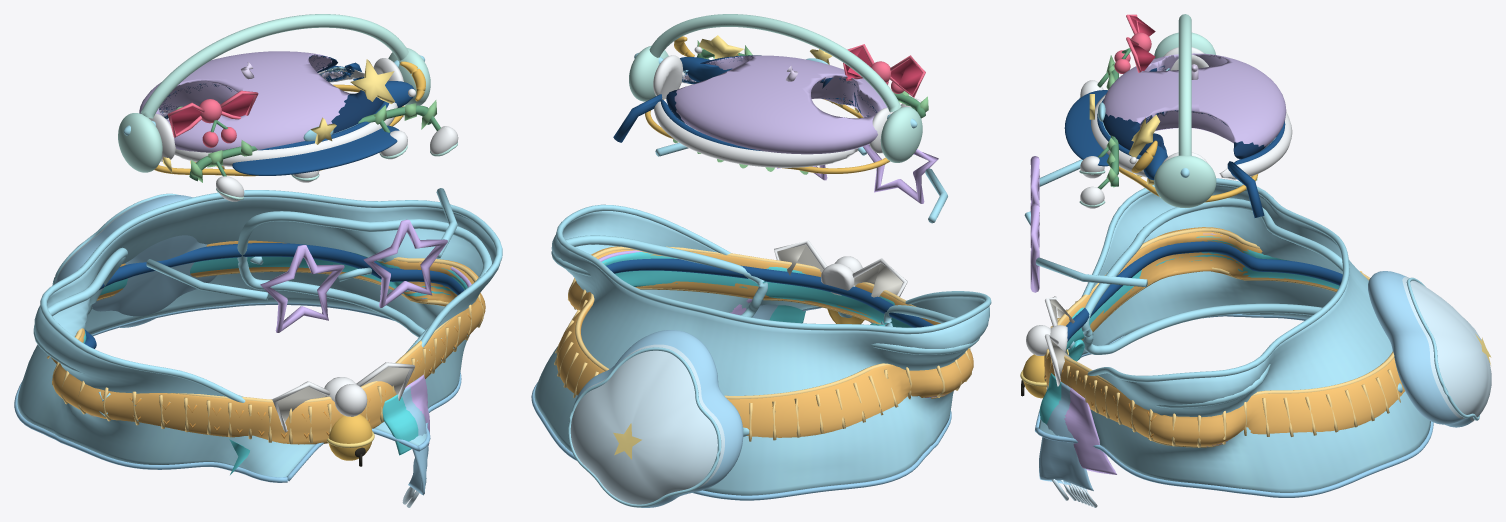
Rendered from nava-wardrobe-accessories-C5J--fAD.glb.
3 views of the same model, side by side, from view 1: azimuth 30°, elevation 25°; view 2: azimuth 150°, elevation 25°; view 3: azimuth 270°, elevation 25° (orthographic). The views are drawn at different scales.
Visible parts, largest first — view 1: soft opaque ice-blue cape cloth | accessory-raindrop-cape, honey knitted yarn | honey-neck-warmer, mist lavender velvet | mist-beret, soft mint plush | mint-earmuffs, ice blue satin | accessory-cloud-backpack, ice blue satin | accessory-raindrop-cape, cloud-knit blue | cloud-knit highlight | accessory-cloud-bac, iridescent lilac | star-glasses, navy enamel textile | bell-collar, honey yarn highlights | honey-neck-warmer, cape edge opaque blue | accessory-raindrop-cape, navy enamel textile | night-voyage-cap (+18 smaller); view 2: soft opaque ice-blue cape cloth | accessory-raindrop-cape, cloud-knit blue | cloud-knit highlight | accessory-cloud-bac, mist lavender velvet | mist-beret, honey knitted yarn | honey-neck-warmer, soft mint plush | mint-earmuffs, ice blue satin | accessory-cloud-backpack, ice blue satin | accessory-raindrop-cape, aqua glass enamel | aurora-scarf, honey yarn highlights | honey-neck-warmer, navy enamel textile | bell-collar, snow ivory | sailor-hat, cape edge opaque blue | accessory-raindrop-cape (+12 smaller); view 3: soft opaque ice-blue cape cloth | accessory-raindrop-cape, honey knitted yarn | honey-neck-warmer, cloud-knit blue | cloud-knit highlight | accessory-cloud-bac, mist lavender velvet | mist-beret, ice blue satin | accessory-cloud-backpack, soft mint plush | mint-earmuffs, ice blue satin | accessory-raindrop-cape, honey yarn highlights | honey-neck-warmer, navy enamel textile | bell-collar, cloud-knit blue | cloud-scarf, cape edge opaque blue | accessory-raindrop-cape, aqua glass enamel | aurora-scarf (+16 smaller).
Boxes of the visible parts, bbox=[...] form: soft opaque ice-blue cape cloth | accessory-raindrop-cape: bbox=[17, 197, 500, 477]; honey knitted yarn | honey-neck-warmer: bbox=[51, 240, 485, 444]; mist lavender velvet | mist-beret: bbox=[139, 51, 349, 152]; soft mint plush | mint-earmuffs: bbox=[118, 14, 430, 172]; ice blue satin | accessory-cloud-backpack: bbox=[33, 193, 491, 396]; ice blue satin | accessory-raindrop-cape: bbox=[40, 190, 502, 402]; cloud-knit blue | cloud-knit highlight | accessory-cloud-bac: bbox=[55, 195, 216, 327]; iridescent lilac | star-glasses: bbox=[260, 219, 447, 332]; navy enamel textile | bell-collar: bbox=[84, 243, 464, 348]; honey yarn highlights | honey-neck-warmer: bbox=[47, 257, 483, 443]; cape edge opaque blue | accessory-raindrop-cape: bbox=[14, 302, 461, 482]; navy enamel textile | night-voyage-cap: bbox=[162, 71, 399, 175]; soft opaque ice-blue cape cloth | accessory-raindrop-cape: bbox=[534, 211, 989, 495]; cloud-knit blue | cloud-knit highlight | accessory-cloud-bac: bbox=[570, 330, 743, 507]; mist lavender velvet | mist-beret: bbox=[674, 55, 887, 154]; honey knitted yarn | honey-neck-warmer: bbox=[556, 246, 973, 437]; soft mint plush | mint-earmuffs: bbox=[629, 14, 922, 162]; ice blue satin | accessory-cloud-backpack: bbox=[551, 235, 979, 507]; ice blue satin | accessory-raindrop-cape: bbox=[556, 204, 991, 334]; aqua glass enamel | aurora-scarf: bbox=[602, 252, 912, 327]; honey yarn highlights | honey-neck-warmer: bbox=[554, 246, 971, 441]; navy enamel textile | bell-collar: bbox=[606, 258, 933, 327]; snow ivory | sailor-hat: bbox=[654, 72, 858, 167]; cape edge opaque blue | accessory-raindrop-cape: bbox=[531, 307, 951, 500]; soft opaque ice-blue cape cloth | accessory-raindrop-cape: bbox=[1038, 184, 1430, 492]; honey knitted yarn | honey-neck-warmer: bbox=[1044, 227, 1404, 446]; cloud-knit blue | cloud-knit highlight | accessory-cloud-bac: bbox=[1368, 271, 1491, 427]; mist lavender velvet | mist-beret: bbox=[1103, 53, 1286, 147]; ice blue satin | accessory-cloud-backpack: bbox=[1081, 198, 1479, 420]; soft mint plush | mint-earmuffs: bbox=[1154, 14, 1216, 207]; ice blue satin | accessory-raindrop-cape: bbox=[1081, 178, 1349, 382]; honey yarn highlights | honey-neck-warmer: bbox=[1044, 228, 1400, 447]; navy enamel textile | bell-collar: bbox=[1066, 241, 1342, 341]; cloud-knit blue | cloud-scarf: bbox=[1039, 382, 1093, 490]; cape edge opaque blue | accessory-raindrop-cape: bbox=[1035, 314, 1433, 497]; aqua glass enamel | aurora-scarf: bbox=[1039, 236, 1339, 424].
Size of the model in its own units: 1.61 by 1.6 by 1.58.
Materials: 29 (1 with a texture image).
